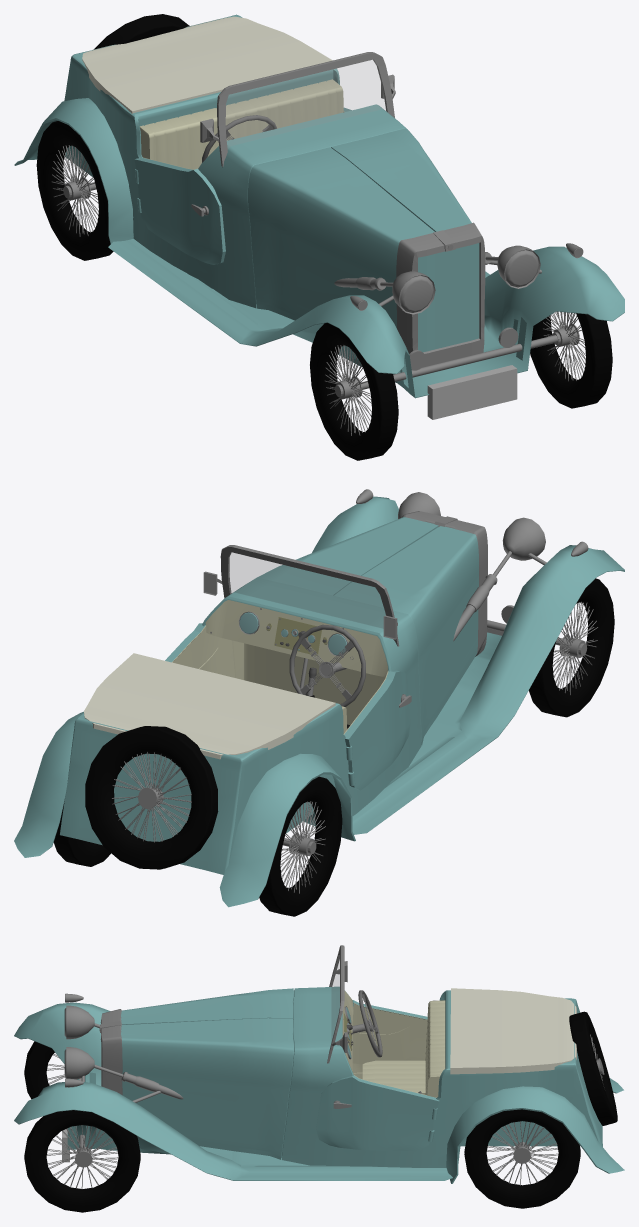
The picture shows the model from 3 angles, top to bottom: view 1: azimuth 30°, elevation 25°; view 2: azimuth 150°, elevation 25°; view 3: azimuth 270°, elevation 25°; orthographic projection. The views are drawn at different scales.
Parts seen in each view (by area): view 1: pCylinder379; view 2: pCylinder379; view 3: pCylinder379.
Boxes of the visible parts, x1,y1,x2,y2 form: pCylinder379: [14, 14, 624, 460]; pCylinder379: [14, 489, 624, 916]; pCylinder379: [14, 945, 624, 1212].
Bounding box in the file's own units: 8.76 × 7.81 × 22.3.
